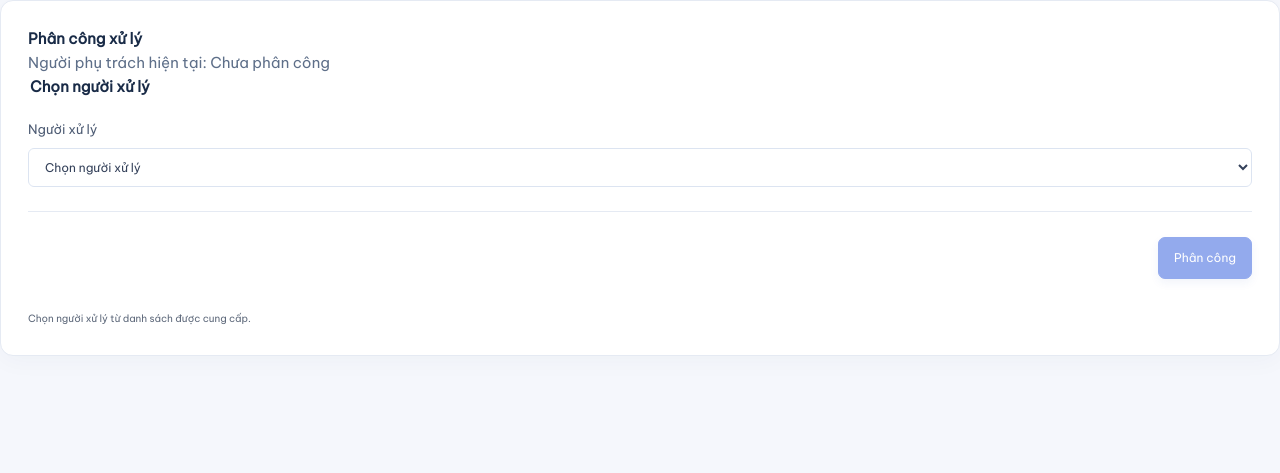
it: APP-11 assignment selection and single write › does not retry UNAUTHENTICATED and keeps the write stopped
Later steps or results of the test are not shown.
Select "Nguyễn An" in the dropdown. click: (640, 168)
box: [28,148,1252,187]
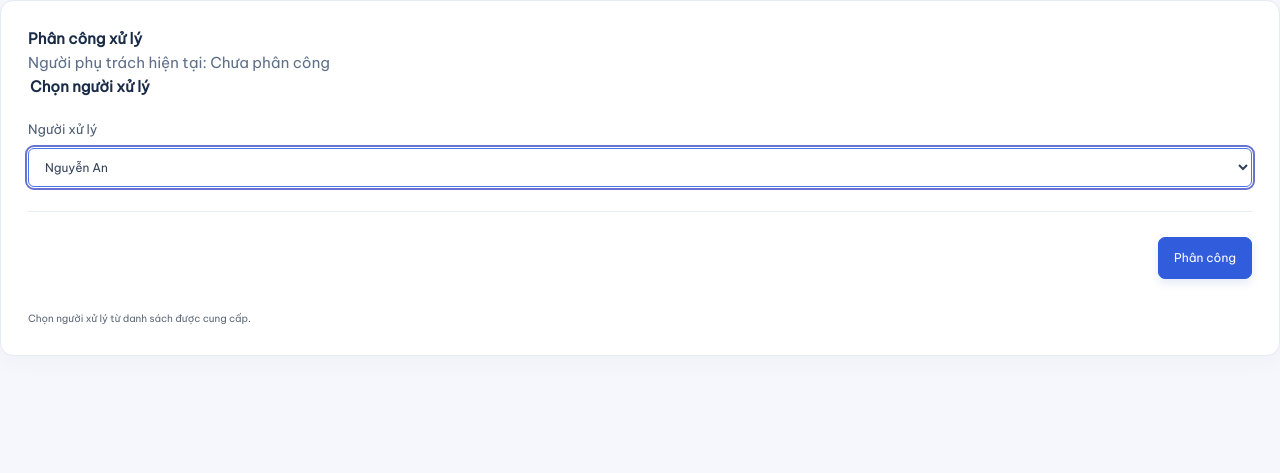
Double-click the button "Phân công" at (1205, 258), box [1158,237,1252,279]
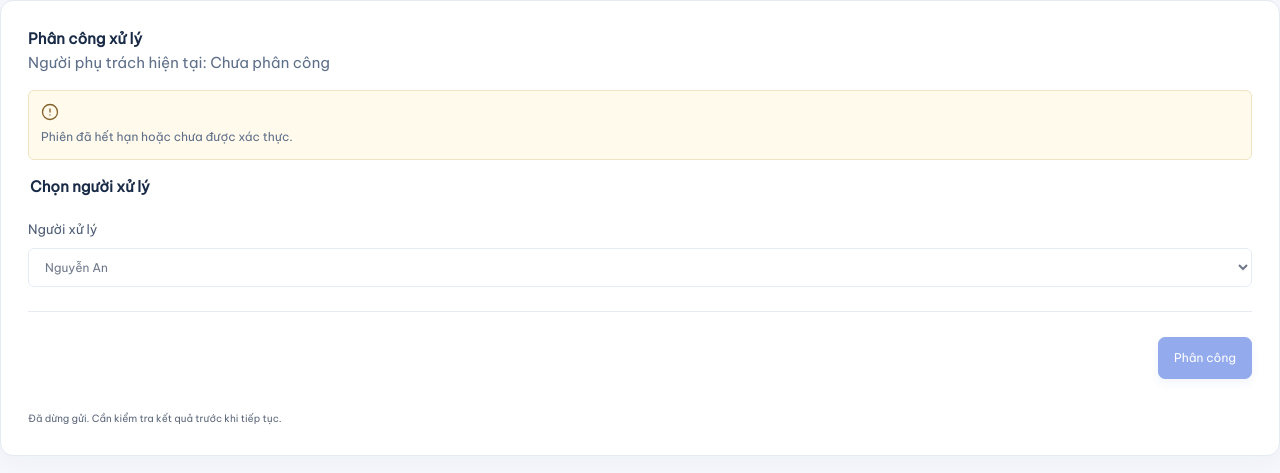
Now the message "Phiên đã hết hạn hoặc chưa được xác thực." is shown, box [28,90,1252,160]
Now the button "Phân công" is disabled, box [1158,337,1252,379]
